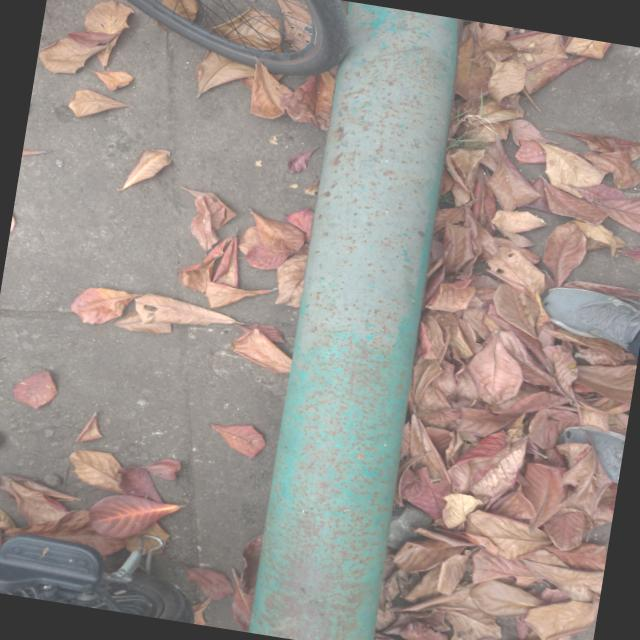gas: (243, 0, 476, 640)
